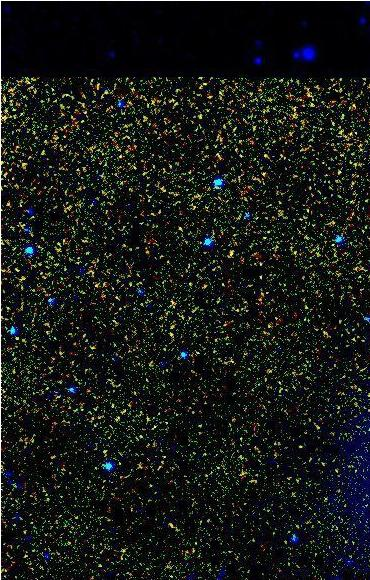star: (214, 238, 244, 268)
